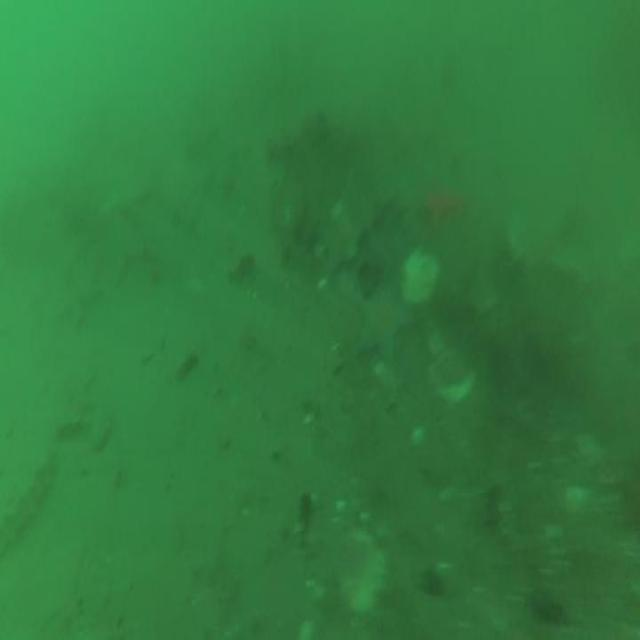holothurian: (2, 446, 57, 554)
scallop: (403, 245, 440, 303)
starfish: (357, 280, 409, 365)
